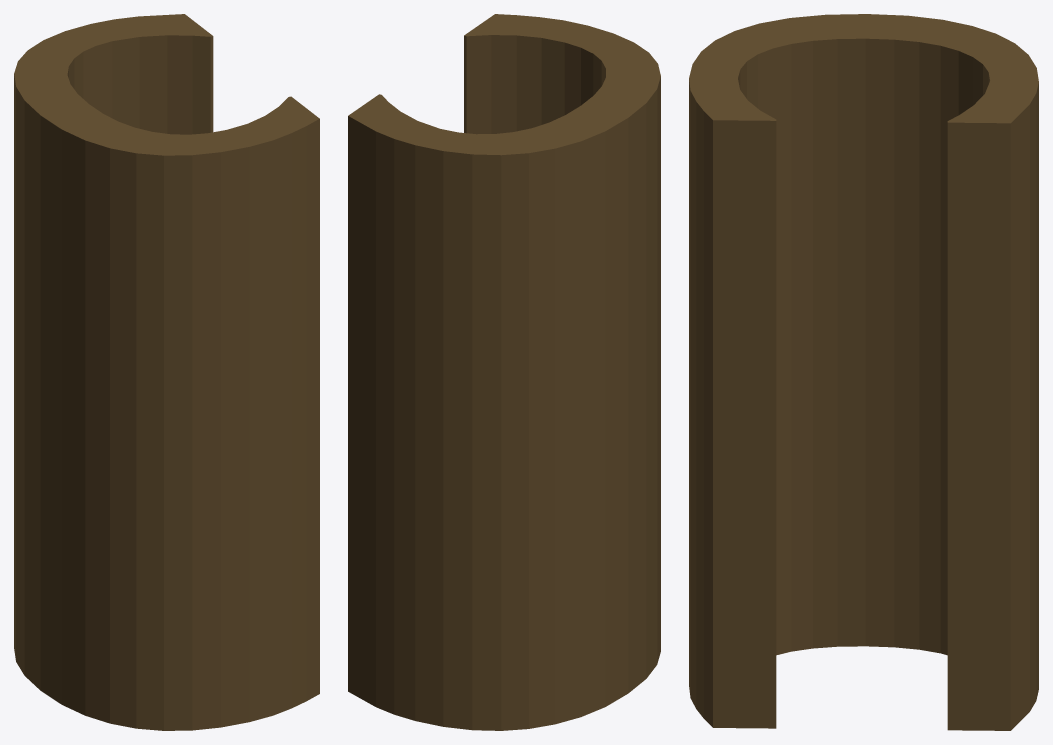
File: original-79.obj
3 views of the same model, side by side, from view 1: azimuth 30°, elevation 25°; view 2: azimuth 150°, elevation 25°; view 3: azimuth 270°, elevation 25° (orthographic). The views are drawn at different scales.
Visible parts, largest first — view 1: mesh148/mesh148-geometry#mesh148-geometry; view 2: mesh148/mesh148-geometry#mesh148-geometry; view 3: mesh148/mesh148-geometry#mesh148-geometry.
Part boxes in pixels (<box>): mesh148/mesh148-geometry#mesh148-geometry: <box>14,14,319,730</box>; mesh148/mesh148-geometry#mesh148-geometry: <box>348,14,660,730</box>; mesh148/mesh148-geometry#mesh148-geometry: <box>689,14,1038,730</box>.
Bounding box in the file's own units: 0.00551 × 0.0143 × 0.00746.
